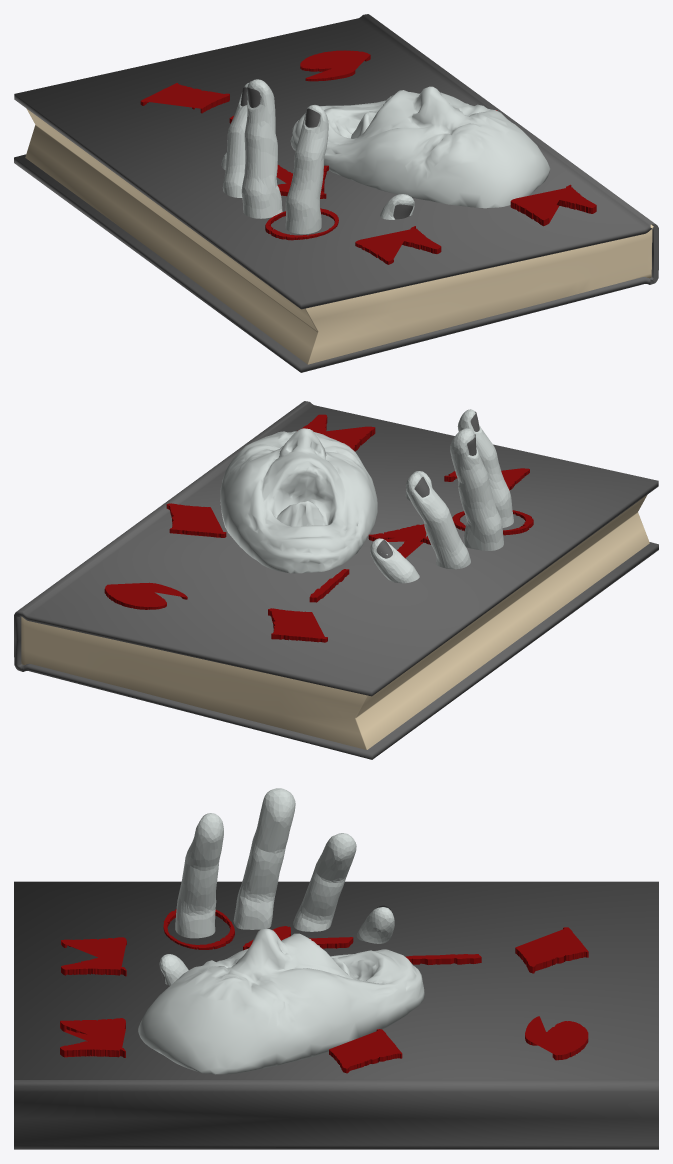
The model's file is diario.fbx.
3 renders of one model, top to bottom at view 1: azimuth 30°, elevation 25°; view 2: azimuth 150°, elevation 25°; view 3: azimuth 270°, elevation 25°, orthographic. The views are drawn at different scales.
Parts seen in each view (by area): view 1: Book; view 2: Book; view 3: Book.
Boxes of the visible parts, bbox=[...] form: Book: bbox=[14, 14, 658, 372]; Book: bbox=[14, 401, 658, 759]; Book: bbox=[14, 788, 658, 1149].
Size of the model in its own units: 146 by 73.23 by 203.
